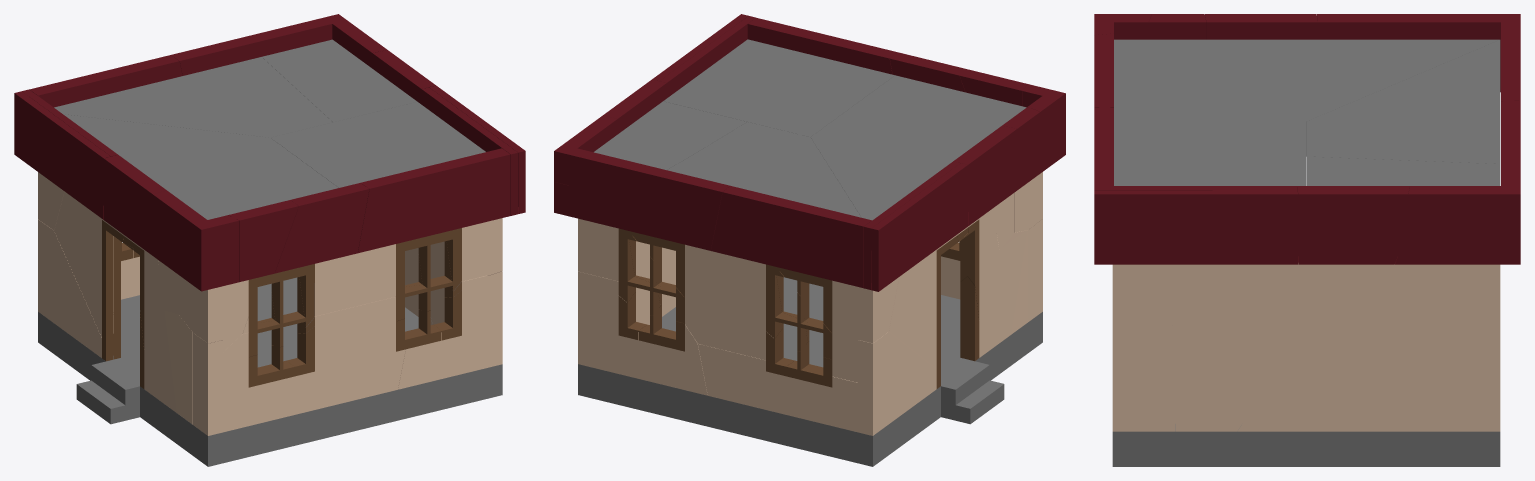
File: 1floor_build_breakable_ne 1.fbx
3 renders of one model, left to right at view 1: azimuth 30°, elevation 25°; view 2: azimuth 150°, elevation 25°; view 3: azimuth 270°, elevation 25°, orthographic. The views are drawn at different scales.
Visible parts, largest first — view 1: Floor, Floors_cell.002, Wall_window_cell.010, Floors_cell.001_cell, Border_cell.001, Floors_cell, Wall_Door_cell.002, Floors_cell.001_cell.001, Border_cell.004_cell, border_cell, Wall_window_cell.006, border_cell.001_cell (+34 smaller); view 2: Floor, Floors_cell.002, Floors_cell, border_cell.003, Border_cell.002, Wall_window_cell.002, Floors_cell.001_cell, Wall_Door_cell.002, Wall_window_cell.004, Border_cell.004_cell, Wall_window_cell.001, Wall_Door_cell (+32 smaller); view 3: Wall_cell, Floors_cell.002, Floors_cell.001_cell, Border_cell.004_cell.002, Wall_cell.002_cell.002, Floor, Floors_cell, Wall_cell.001, border_cell.002_cell, Wall_cell.002_cell, Wall_cell.002_cell.001, Floors_cell.001_cell.001 (+13 smaller).
Boxes of the visible parts, x1,y1,x2,y2 form: Floor: [38, 277, 502, 466]; Floors_cell.002: [63, 114, 338, 219]; Wall_window_cell.010: [223, 297, 405, 432]; Floors_cell.001_cell: [54, 57, 332, 137]; Border_cell.001: [358, 148, 510, 253]; Floors_cell: [271, 102, 485, 187]; Wall_Door_cell.002: [54, 192, 176, 412]; Floors_cell.001_cell.001: [262, 39, 417, 122]; Border_cell.004_cell: [14, 91, 110, 219]; border_cell: [274, 183, 369, 273]; Wall_window_cell.006: [398, 275, 487, 389]; border_cell.001_cell: [176, 209, 239, 291]; Floor: [578, 277, 1042, 466]; Floors_cell.002: [810, 75, 1026, 220]; Floors_cell: [663, 39, 894, 137]; border_cell.003: [569, 148, 729, 250]; Border_cell.002: [711, 186, 871, 288]; Wall_window_cell.002: [685, 244, 857, 382]; Floors_cell.001_cell: [667, 122, 861, 217]; Wall_Door_cell.002: [889, 208, 1011, 368]; Wall_window_cell.004: [698, 344, 857, 432]; Border_cell.004_cell: [871, 163, 967, 291]; Wall_window_cell.001: [592, 275, 707, 395]; Wall_Door_cell: [858, 332, 936, 435]; Wall_cell: [1237, 326, 1500, 431]; Floors_cell.002: [1114, 39, 1499, 156]; Floors_cell.001_cell: [1306, 40, 1500, 163]; Border_cell.004_cell.002: [1094, 190, 1297, 264]; Wall_cell.002_cell.002: [1173, 264, 1306, 431]; Floor: [1112, 424, 1500, 466]; Floors_cell: [1114, 121, 1306, 185]; Wall_cell.001: [1306, 264, 1500, 326]; border_cell.002_cell: [1297, 186, 1409, 264]; Wall_cell.002_cell: [1112, 263, 1301, 325]; Wall_cell.002_cell.001: [1112, 325, 1175, 431]; Floors_cell.001_cell.001: [1306, 156, 1500, 185].
Bounding box in the file's own units: 460 × 320 × 440.
